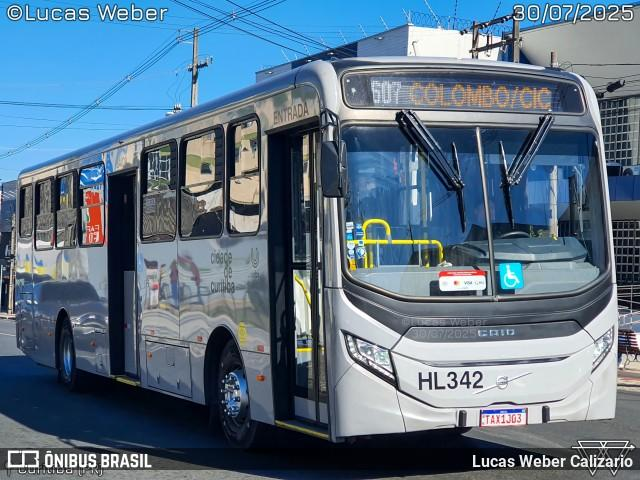COLOMBO CIC: (405, 79, 557, 114)
